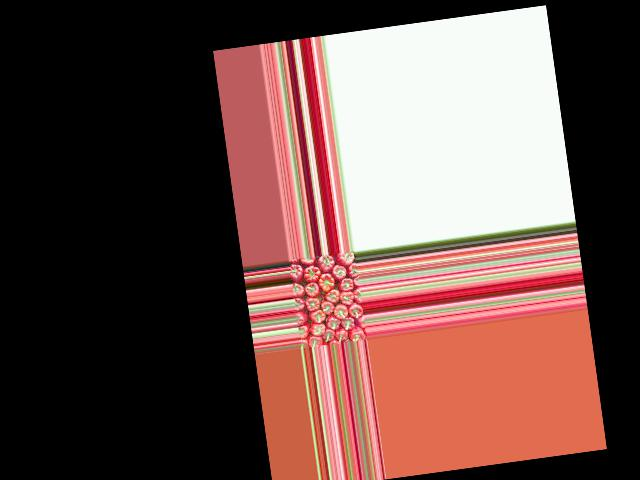bell_pepper: (350, 325, 365, 341)
